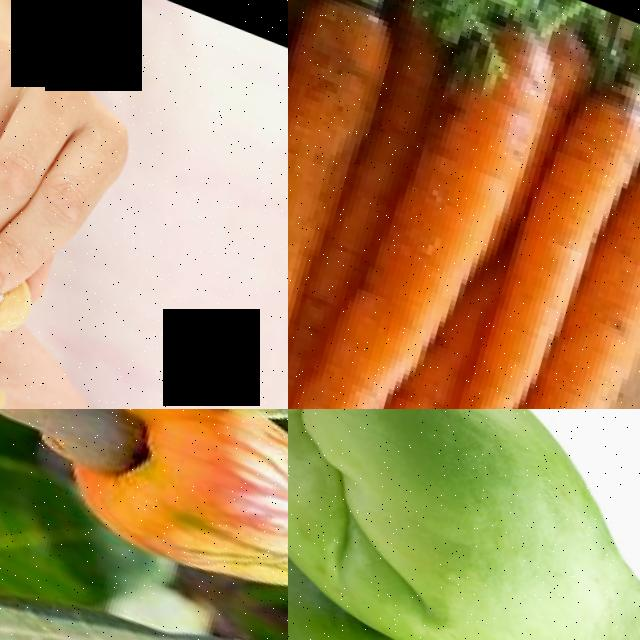carrot: (316, 20, 563, 409), (438, 59, 640, 409), (288, 0, 420, 409), (501, 107, 640, 409)
cashew: (0, 409, 165, 500), (0, 273, 36, 353)
chayote: (288, 409, 640, 640), (288, 550, 572, 640)
